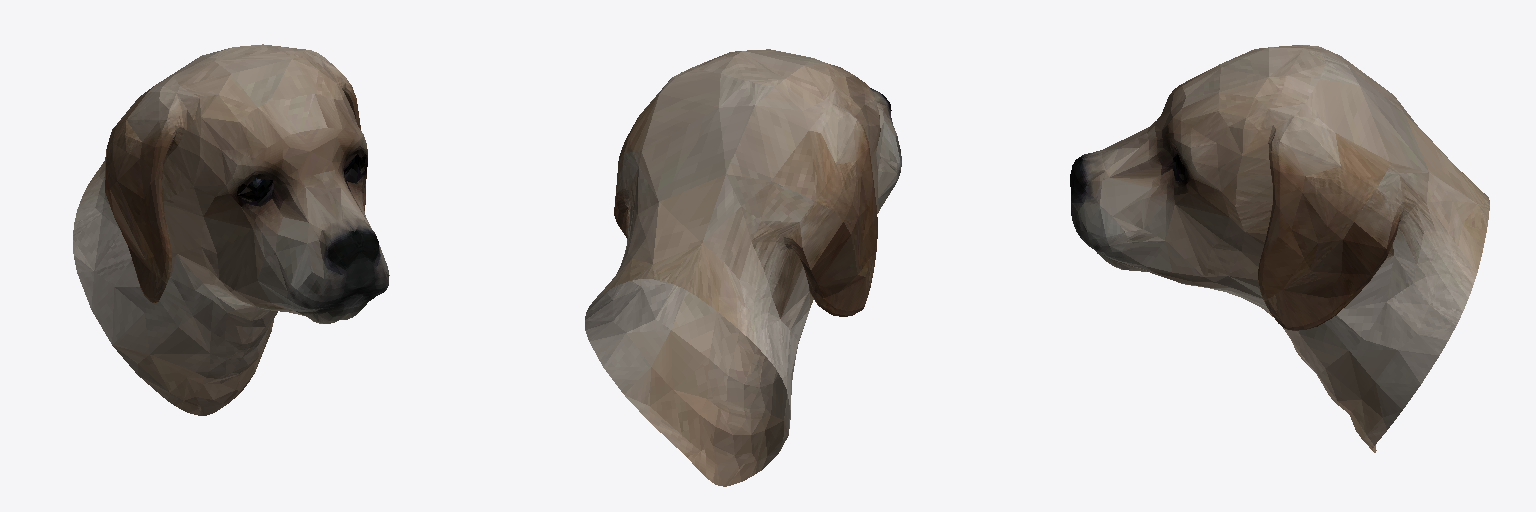
The picture shows the model from 3 angles: view 1: azimuth 30°, elevation 25°; view 2: azimuth 150°, elevation 25°; view 3: azimuth 270°, elevation 25°; orthographic projection.
Visible parts, largest first — view 1: Object002; view 2: Object002; view 3: Object002.
Part boxes in pixels (bbox=[...]): Object002: bbox=[73, 44, 389, 415]; Object002: bbox=[585, 49, 901, 486]; Object002: bbox=[1070, 45, 1489, 452].
Size of the model in its own units: 0.1864 by 0.302 by 0.2949.
Materials: 1 (1 with a texture image).